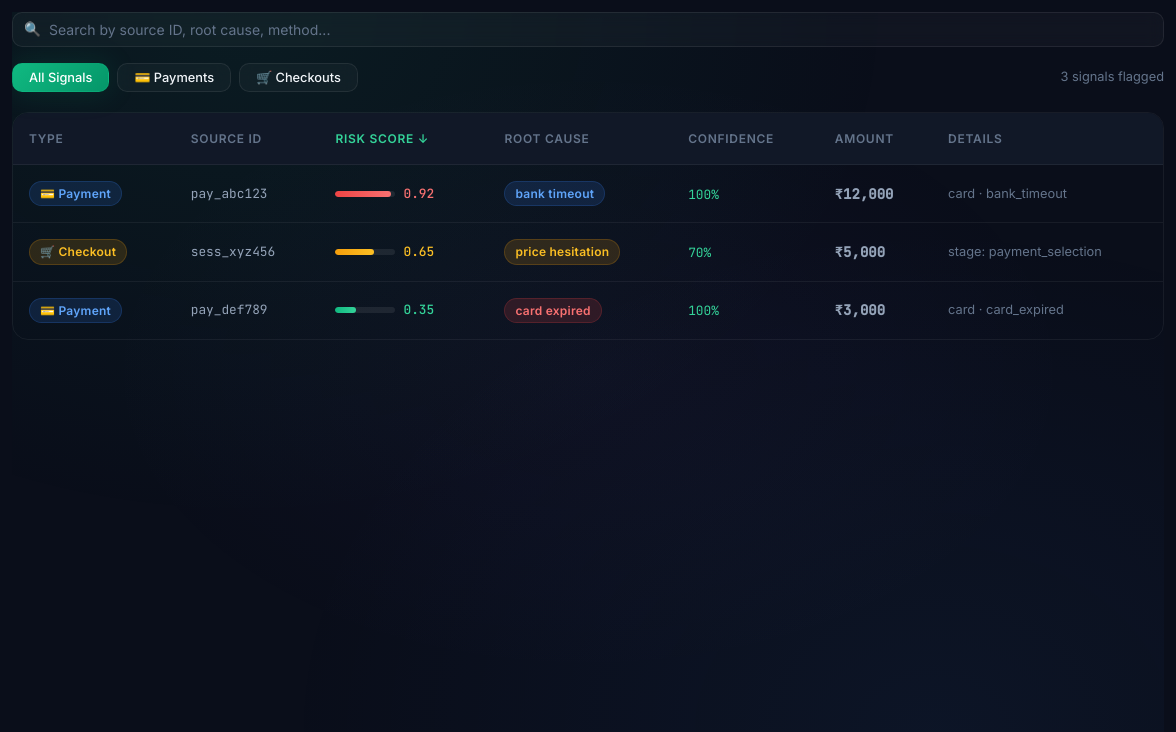
SignalTable › FE-SIG-12: search clear button resets filter
expect the text "pay_abc123" is shown: met, box left=175, top=165, right=319, bottom=223
Type "pay_abc123" into the field with placeholder "Search by source ID, root cause, method..." at (588, 30), box left=12, top=12, right=1164, bottom=47
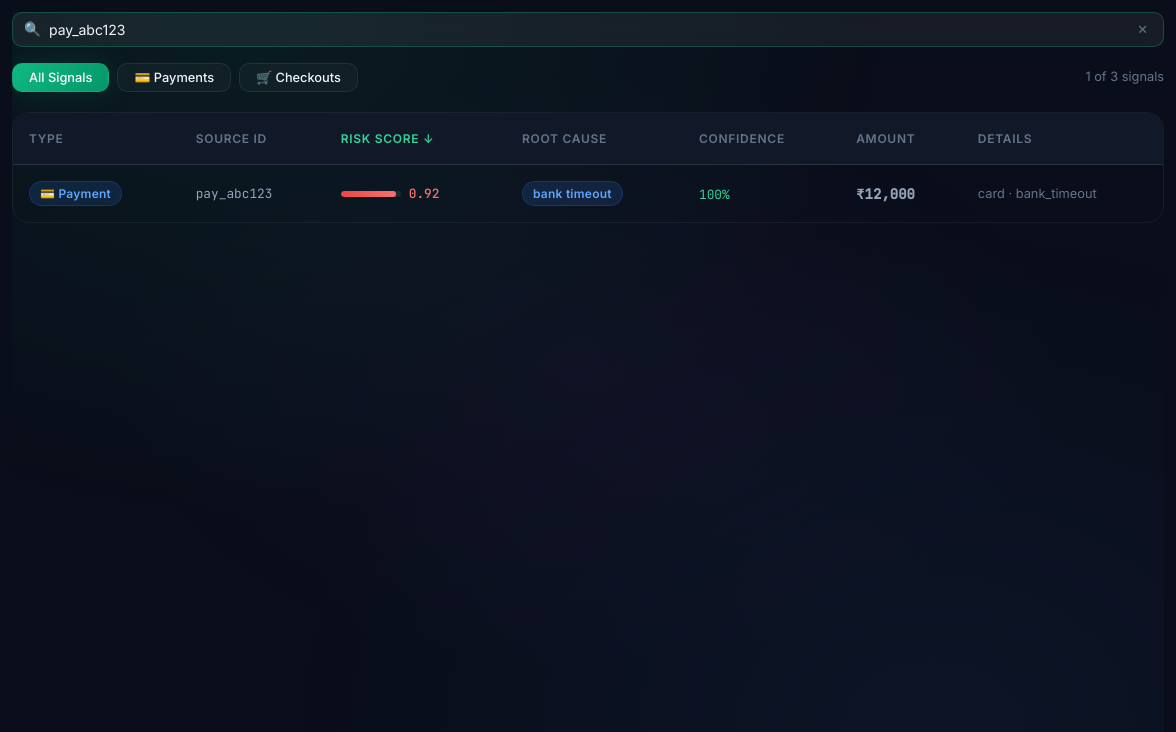
expect the text "sess_xyz456" is gone: met
Click the button "✕" at (1143, 30), box left=1131, top=20, right=1154, bottom=39
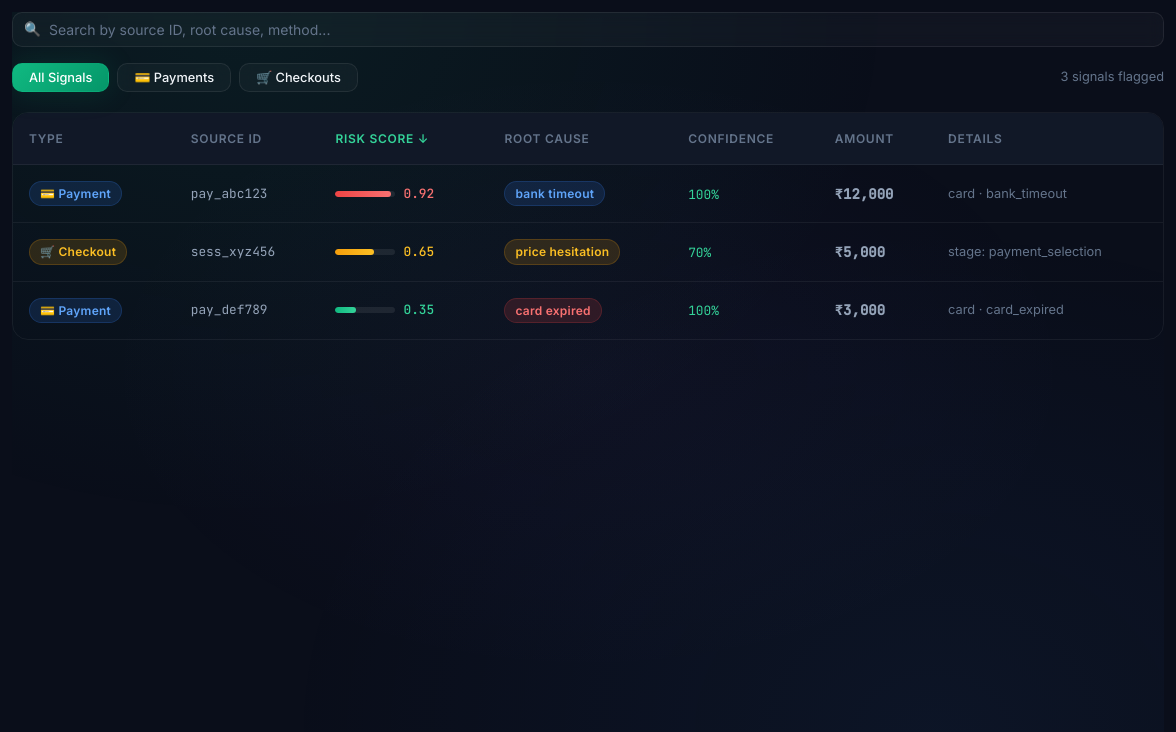
expect the text "sess_xyz456" is shown: met, box left=175, top=223, right=319, bottom=281
